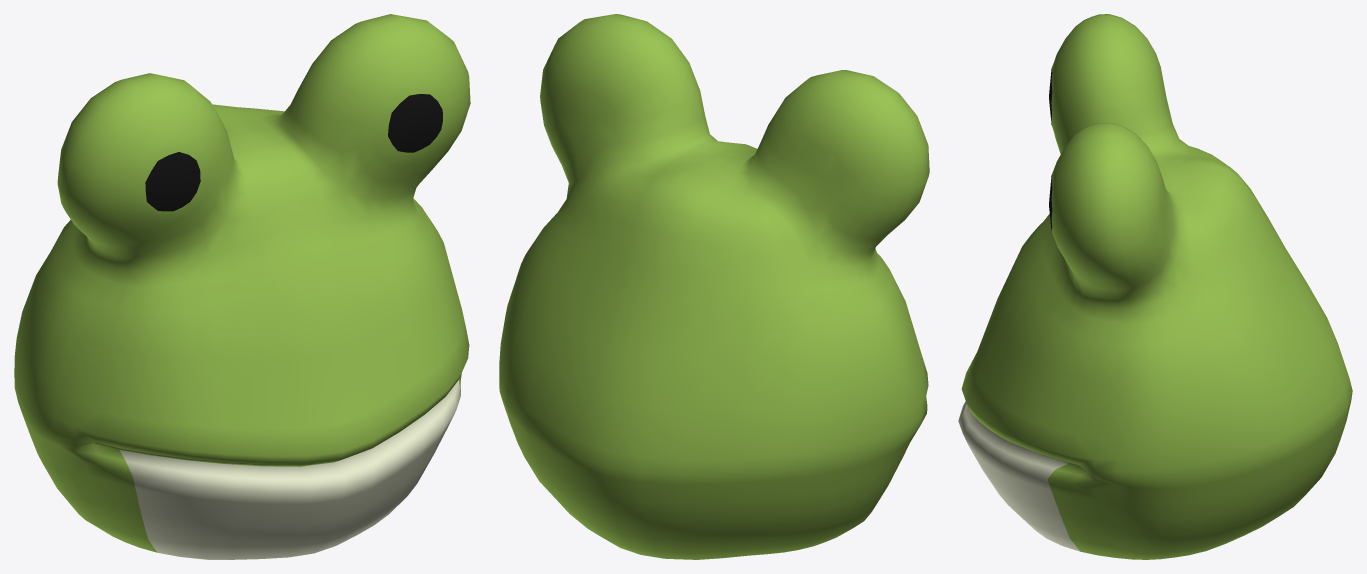
The model's file is FrogModel.glb.
The picture shows the model from 3 angles, left to right: view 1: azimuth 30°, elevation 25°; view 2: azimuth 150°, elevation 25°; view 3: azimuth 270°, elevation 25°; orthographic projection. The views are drawn at different scales.
Parts seen in each view (by area): view 1: Sapo; view 2: Sapo; view 3: Sapo.
Part boxes in pixels (bbox=[...]): Sapo: bbox=[14, 14, 470, 559]; Sapo: bbox=[499, 14, 929, 559]; Sapo: bbox=[958, 14, 1352, 559].
Size of the model in its own units: 0.9053 by 1.01 by 0.8192.
